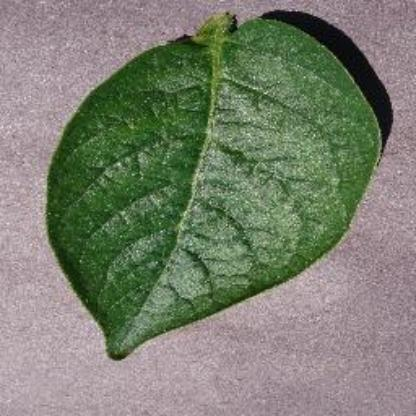Healthy-plant: (43, 5, 383, 361)
